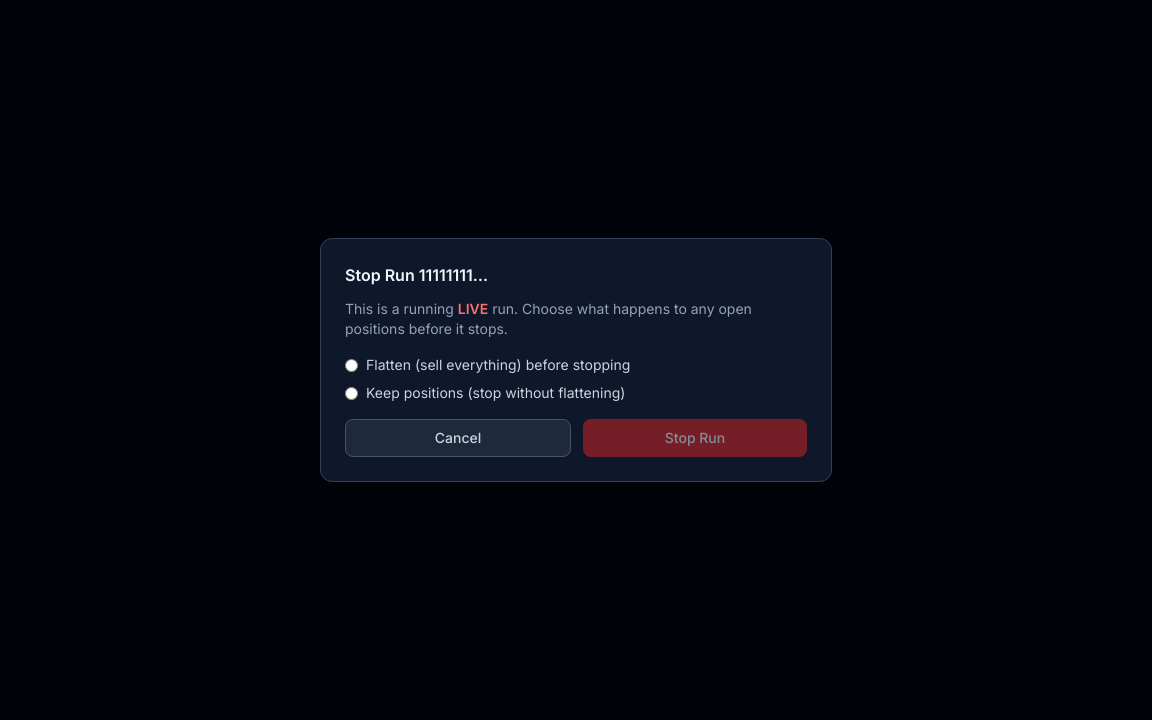
Test: StopRunDialog — live running run requires an explicit flatten choice › renders a flatten_requires_running_engine error (real FastAPI envelope) as a plain message
Click the radio button labelled "Flatten (sell everything) before stopping" at (352, 365), box [345,358,358,372]
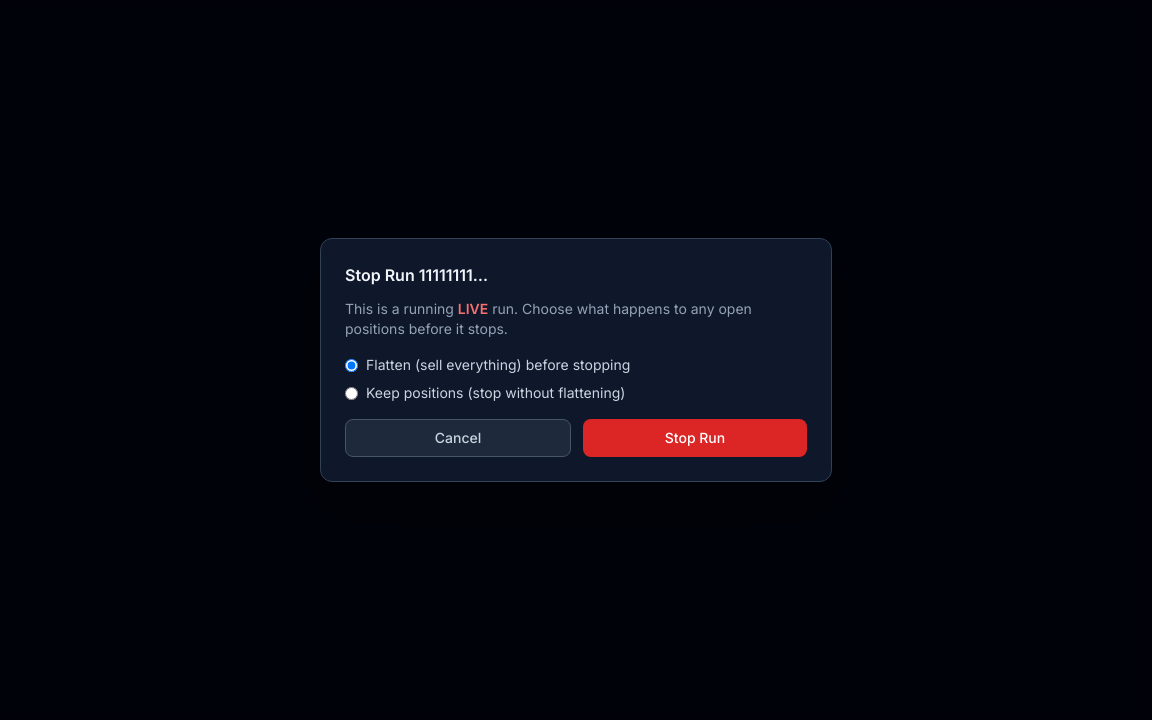
Click the button "Stop Run" at (695, 438), box [583,419,807,457]
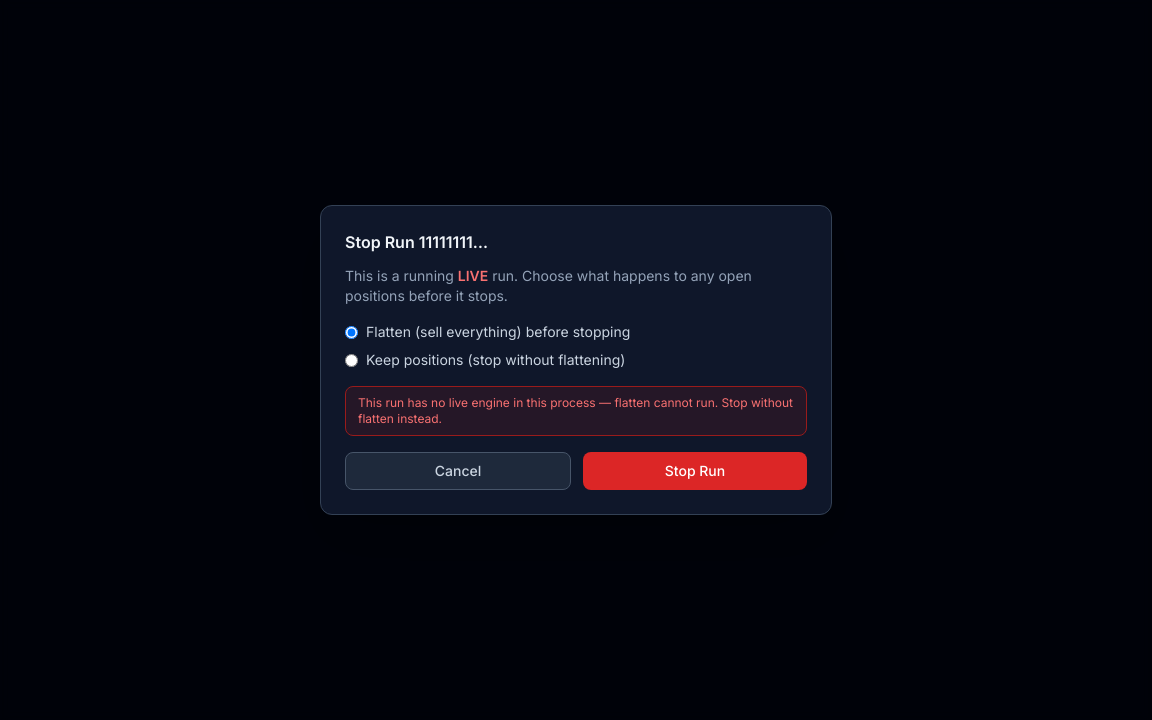
Now the text "flatten cannot run" is shown, box [358,395,793,426]
